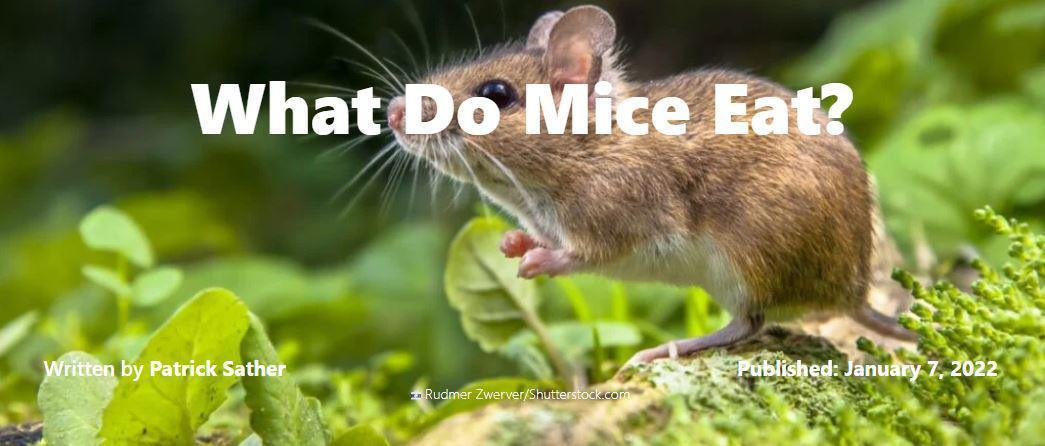rat: (387, 8, 914, 382)
